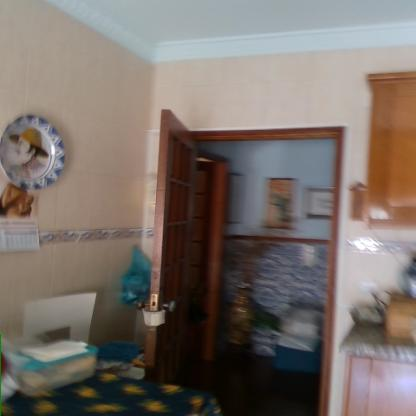open: (125, 110, 352, 415)
